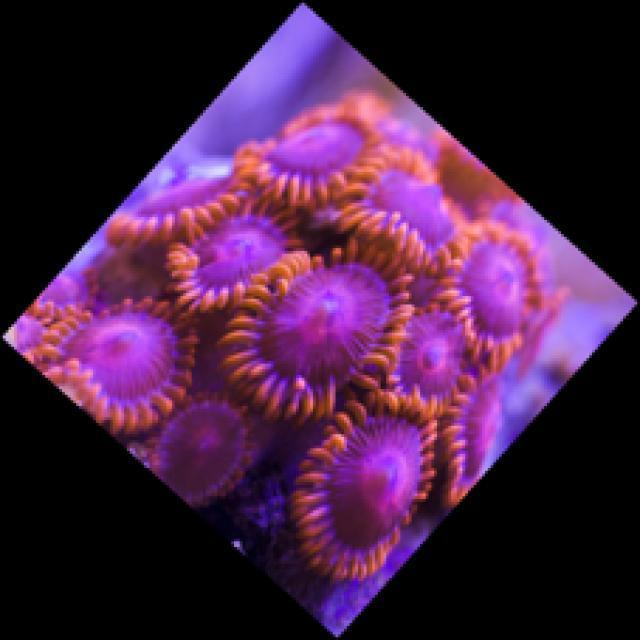Healthy: (1, 94, 545, 599)
